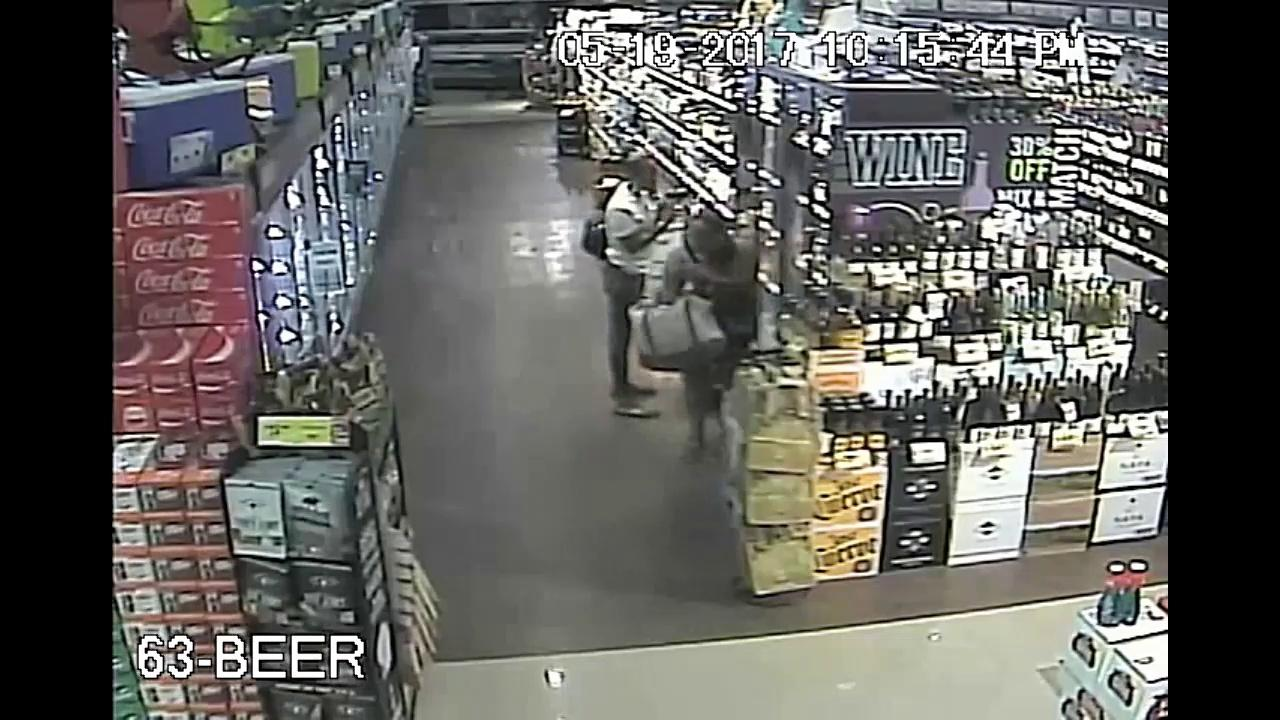3: (635, 170, 810, 464), (573, 131, 670, 291)
persone: (637, 289, 733, 364)
